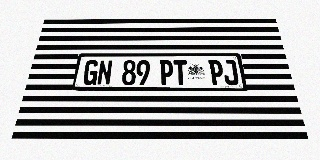8: (121, 60, 137, 85)
9: (136, 60, 150, 85)
G: (82, 60, 99, 85)
J: (222, 60, 239, 85)
N: (96, 60, 113, 85)
P: (208, 60, 225, 85), (160, 60, 174, 85)
T: (173, 60, 188, 85)
